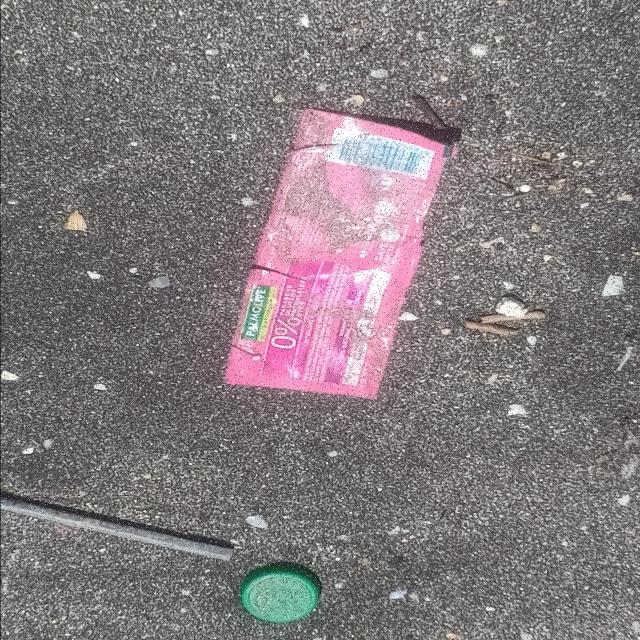plastic_waste: (226, 110, 458, 402), (1, 495, 235, 562), (242, 565, 320, 626)
